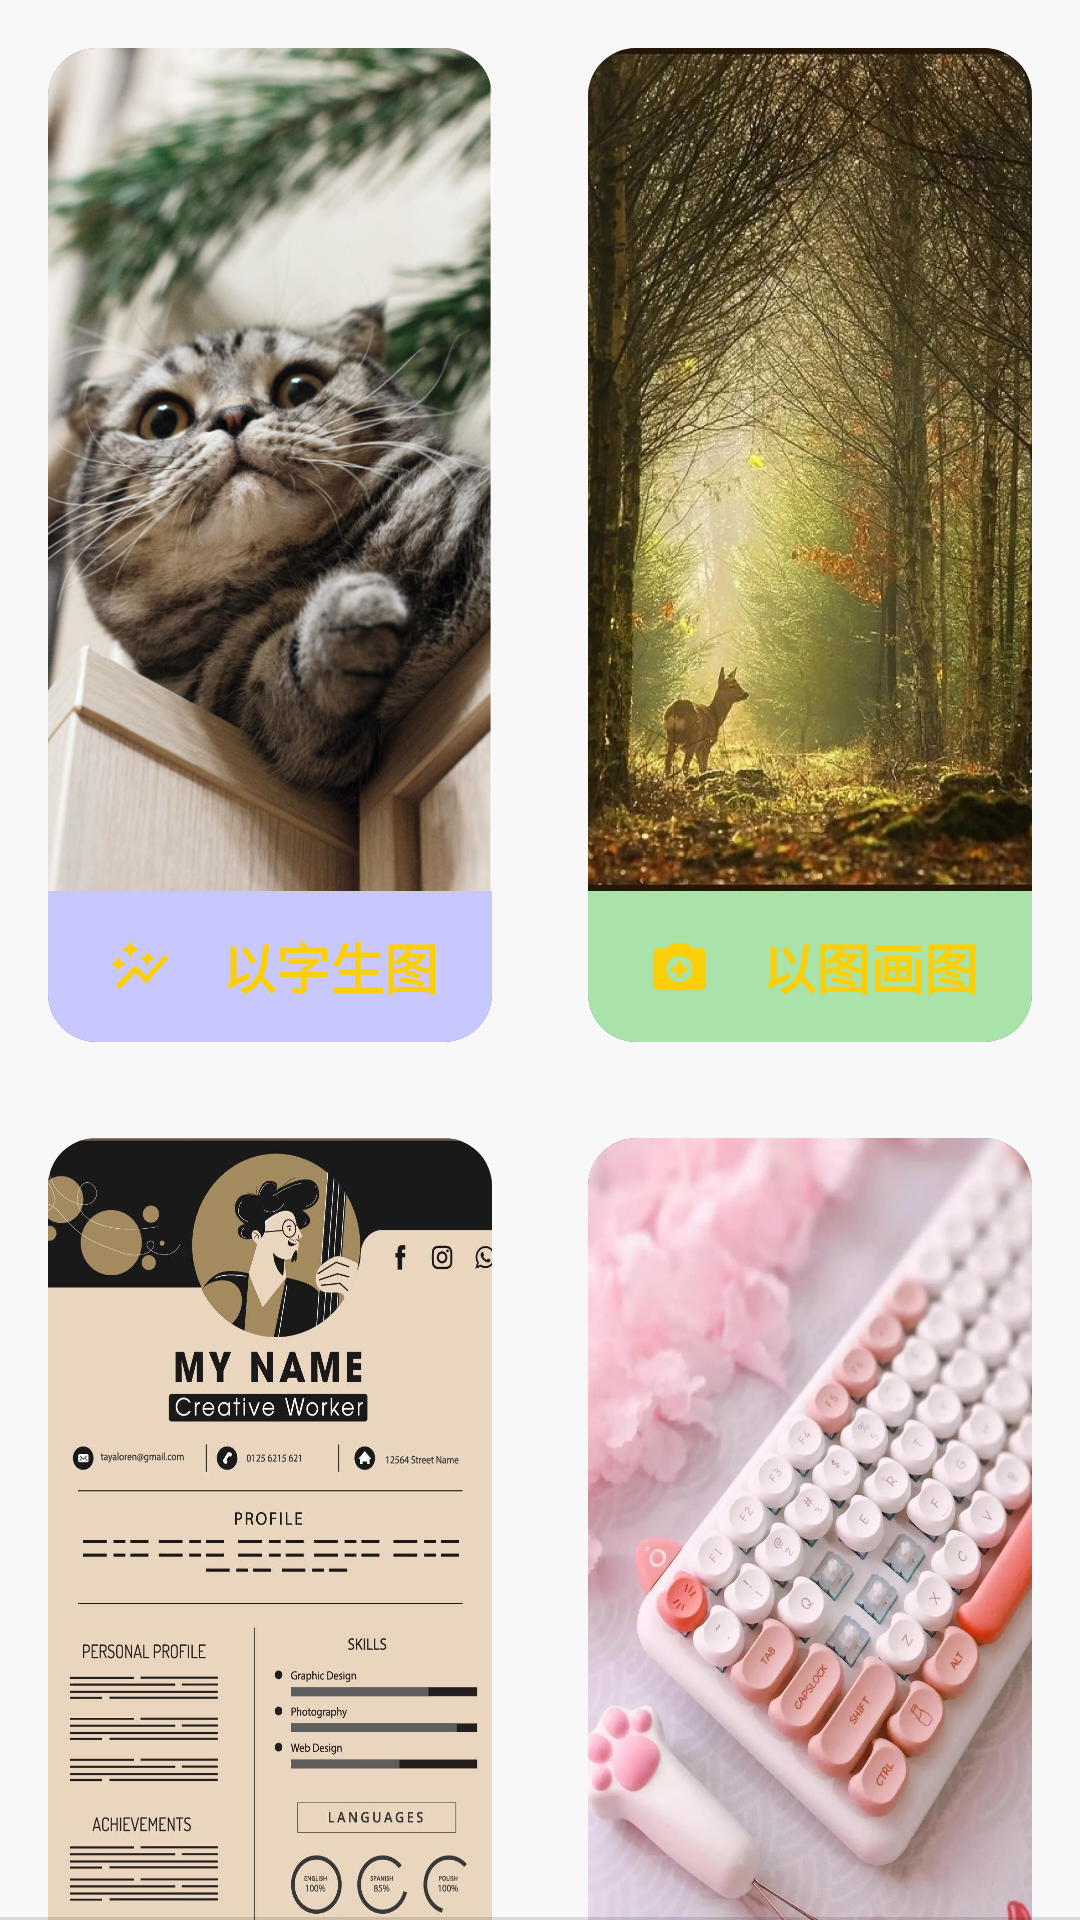

Where to tap for icons on this 1080w x 1920h app screen, as (x=x, y=y):
auto graph: (x=139, y=964)
camera enhance: (x=679, y=967)
